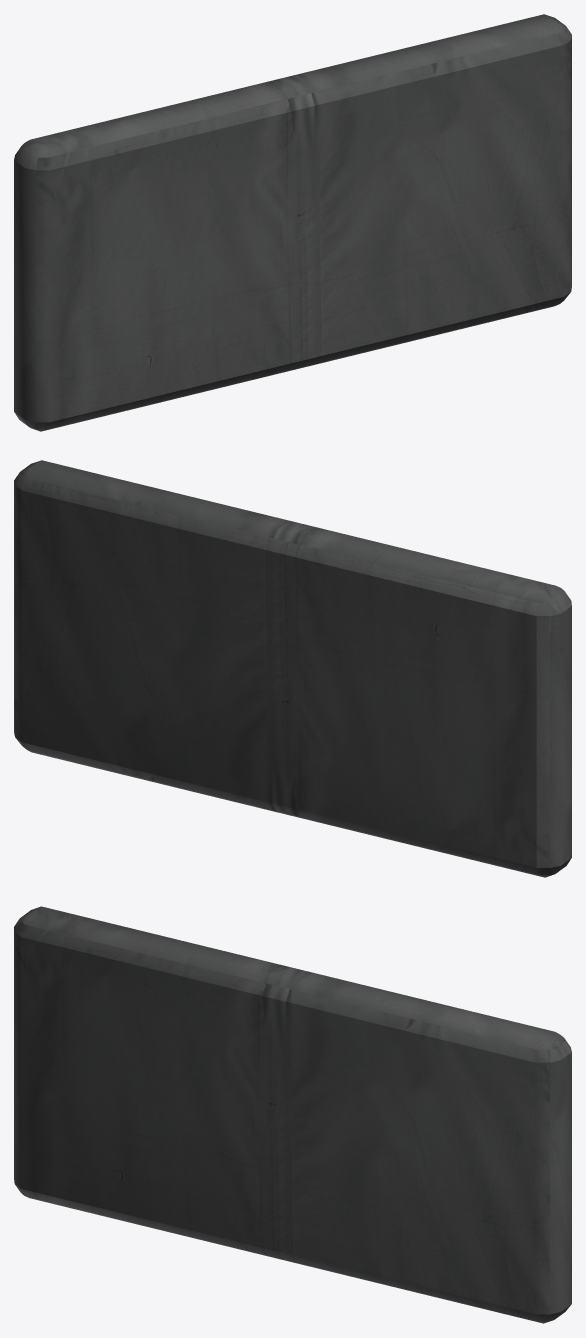
The model's file is matteress3.glb.
The picture shows the model from 3 angles, top to bottom: view 1: azimuth 30°, elevation 25°; view 2: azimuth 150°, elevation 25°; view 3: azimuth 330°, elevation 25°; orthographic projection.
Visible parts, largest first — view 1: ChamferBox; view 2: ChamferBox; view 3: ChamferBox.
Part boxes in pixels (x1=…): ChamferBox: x1=14, y1=14, x2=571, y2=431; ChamferBox: x1=14, y1=460, x2=571, y2=877; ChamferBox: x1=14, y1=906, x2=571, y2=1323.
Size of the model in its own units: 1.06 by 0.5263 by 0.0941.
1 material, 1 textured.
